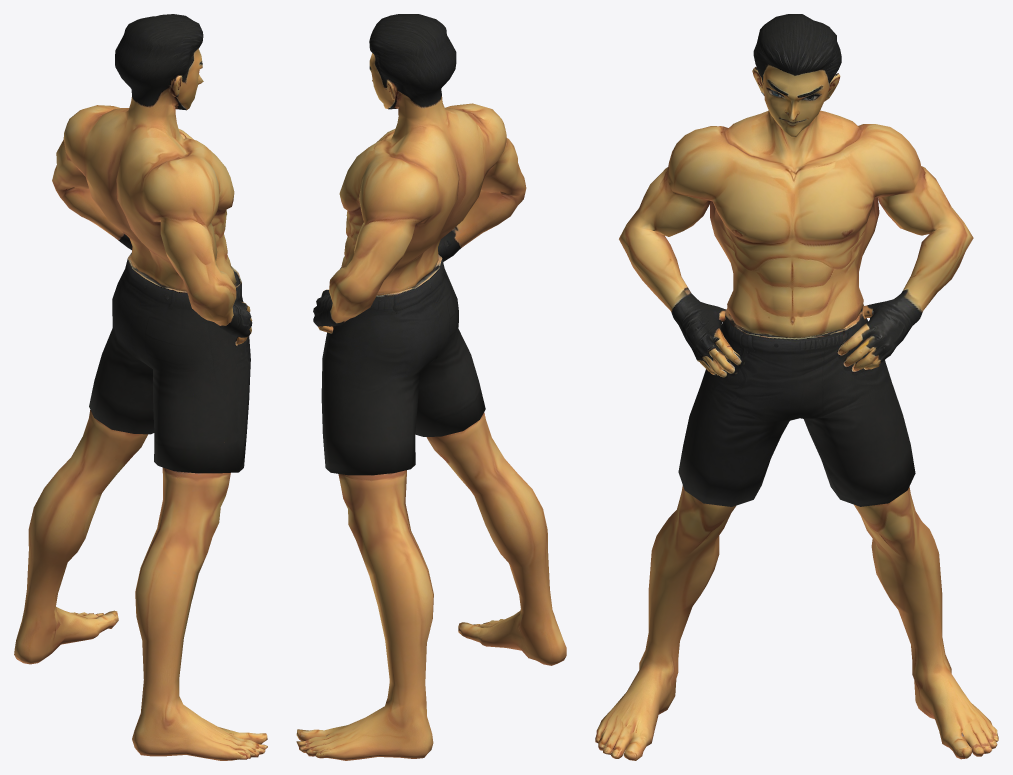
File: 03_Branco.glb
3 views of the same model, side by side, from view 1: azimuth 30°, elevation 25°; view 2: azimuth 150°, elevation 25°; view 3: azimuth 270°, elevation 25° (orthographic). The views are drawn at different scales.
Visible parts, largest first — view 1: tripo_node_d8280929-2966-4d0f-8ef0-da48c73e457d; view 2: tripo_node_d8280929-2966-4d0f-8ef0-da48c73e457d; view 3: tripo_node_d8280929-2966-4d0f-8ef0-da48c73e457d.
Part boxes in pixels (box(x1,y1,x2,y2)): tripo_node_d8280929-2966-4d0f-8ef0-da48c73e457d: box(14, 14, 267, 760); tripo_node_d8280929-2966-4d0f-8ef0-da48c73e457d: box(296, 14, 566, 760); tripo_node_d8280929-2966-4d0f-8ef0-da48c73e457d: box(595, 14, 998, 760).
Bounding box in the file's own units: 0.2441 × 0.998 × 0.502.
Materials: 1 (1 with a texture image).
